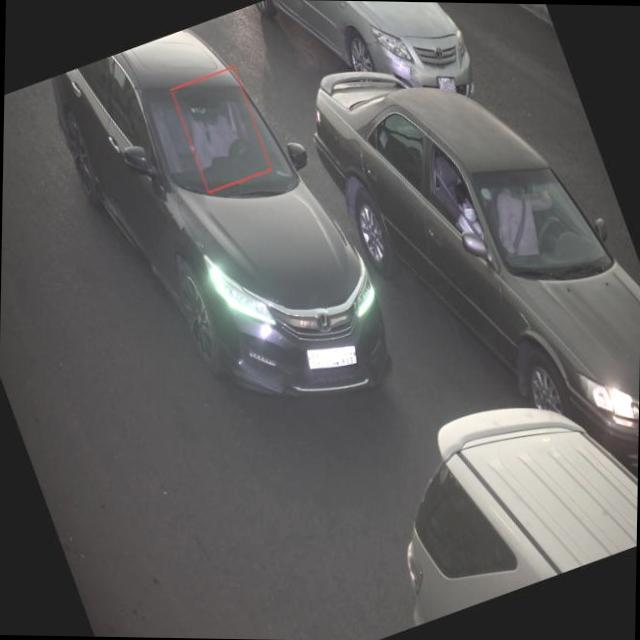person_with_seatbelt: (499, 173, 565, 266)
person_without_seatbelt: (180, 85, 264, 179)
